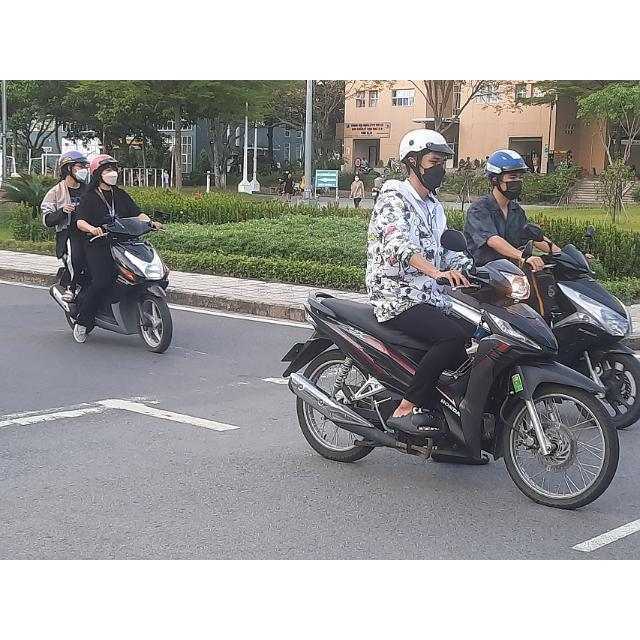Helmet: (400, 128, 456, 194), (487, 148, 529, 202), (58, 148, 90, 184), (90, 154, 120, 190)
